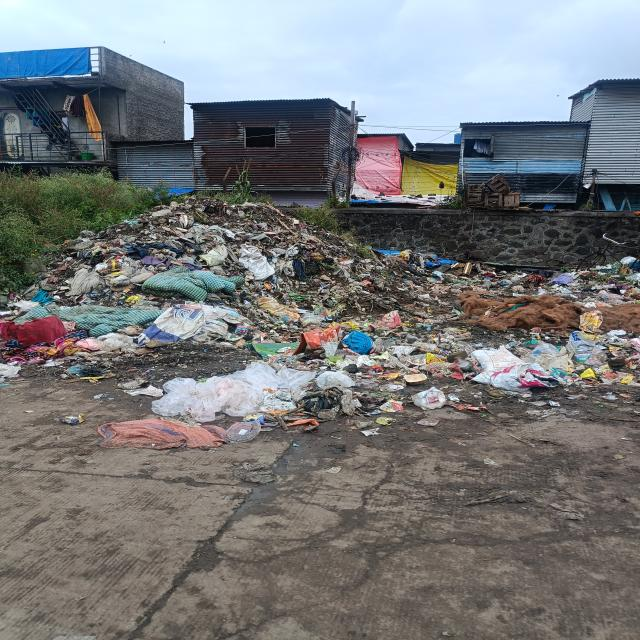garbage: (8, 206, 364, 429), (356, 242, 640, 408)
